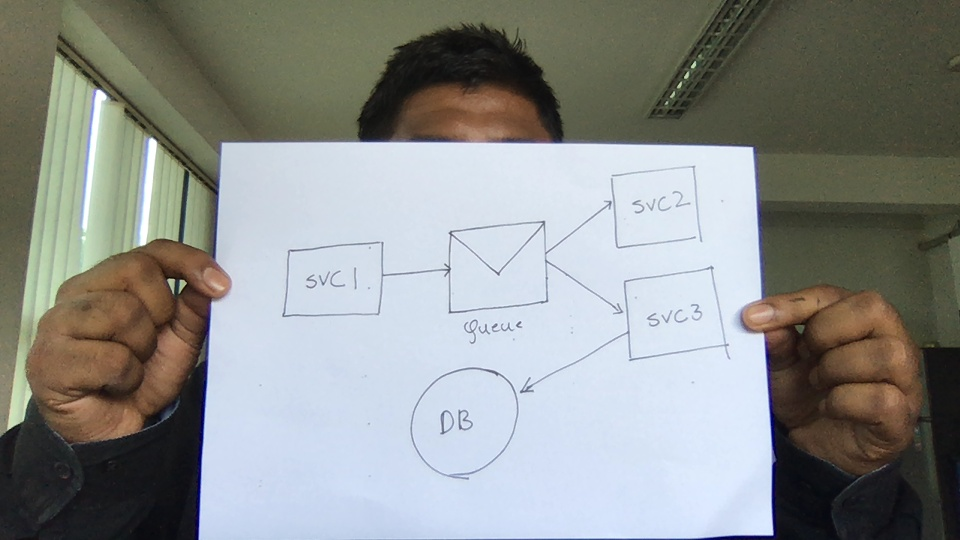db: (403, 359, 524, 487)
ec2: (619, 264, 732, 367), (279, 238, 392, 325), (601, 162, 714, 249)
sns: (443, 217, 555, 323)
